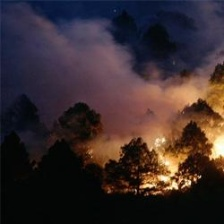fire: (100, 89, 224, 197)
